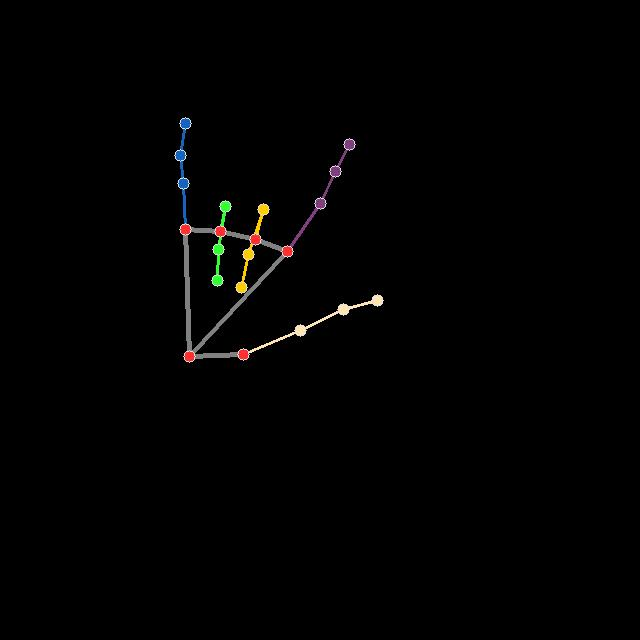spiderman: (173, 117, 385, 366)
